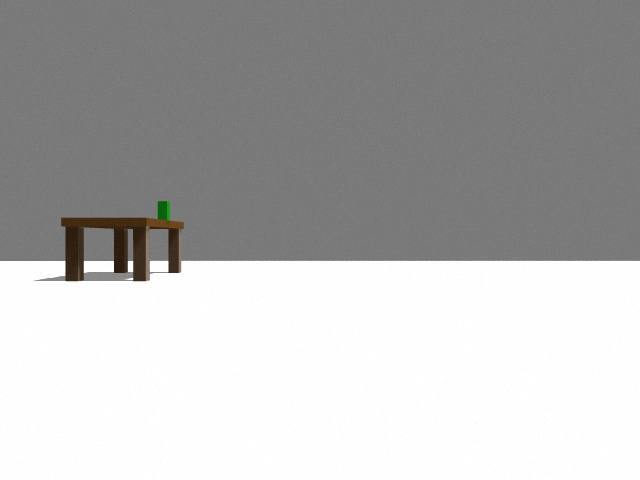green_cube: (158, 201, 170, 220)
